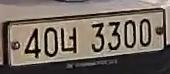0: (43, 26, 60, 58), (122, 19, 139, 50), (137, 17, 154, 48)
3: (88, 21, 106, 54), (107, 21, 123, 51)
4: (24, 27, 43, 61)
너: (59, 26, 80, 56)
